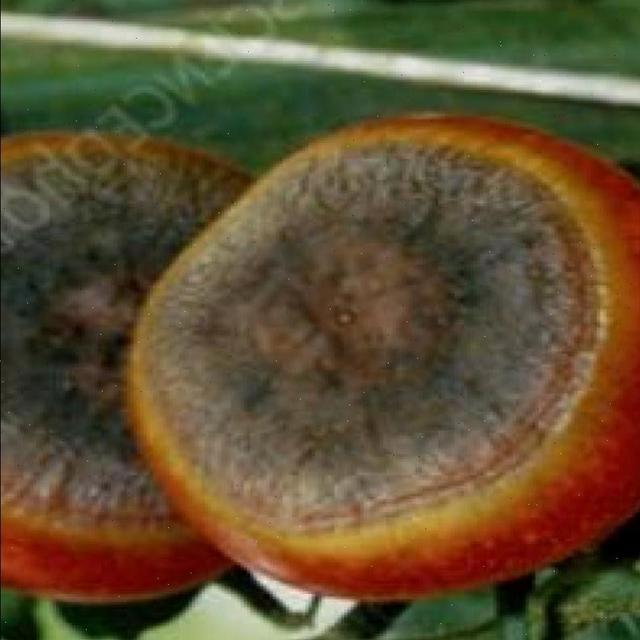Blossom End Rot Fruit: (71, 216, 275, 314)
